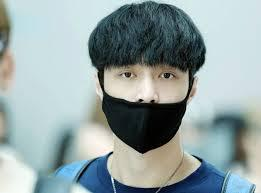WRONG: (104, 40, 189, 148)
